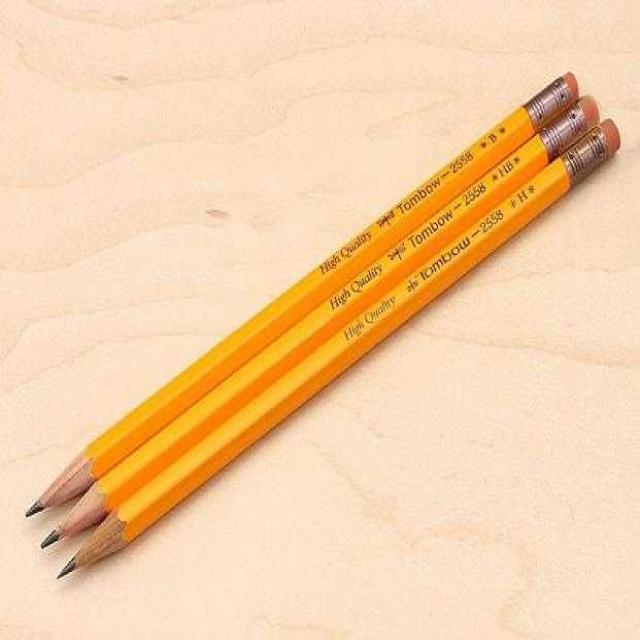pencil: (10, 30, 639, 599), (37, 91, 635, 599), (25, 80, 621, 562), (18, 46, 589, 535)
